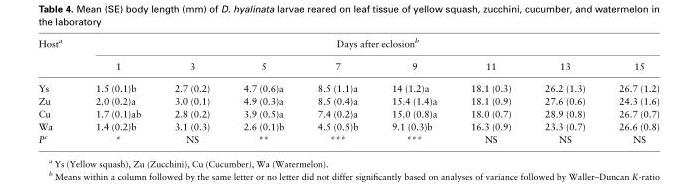table: (37, 36, 658, 144)
table column: (78, 36, 157, 144), (374, 36, 453, 144), (225, 36, 300, 144), (300, 36, 374, 144), (453, 36, 527, 144), (527, 36, 601, 144), (157, 36, 225, 144), (601, 36, 658, 144), (37, 36, 78, 144)
table column header: (37, 36, 658, 77)
table row: (37, 54, 658, 77), (37, 36, 658, 54), (37, 77, 658, 94), (37, 94, 658, 107), (37, 107, 658, 120), (37, 120, 658, 132), (37, 132, 658, 144)
table spanning cell: (78, 36, 658, 54), (37, 36, 78, 77)
